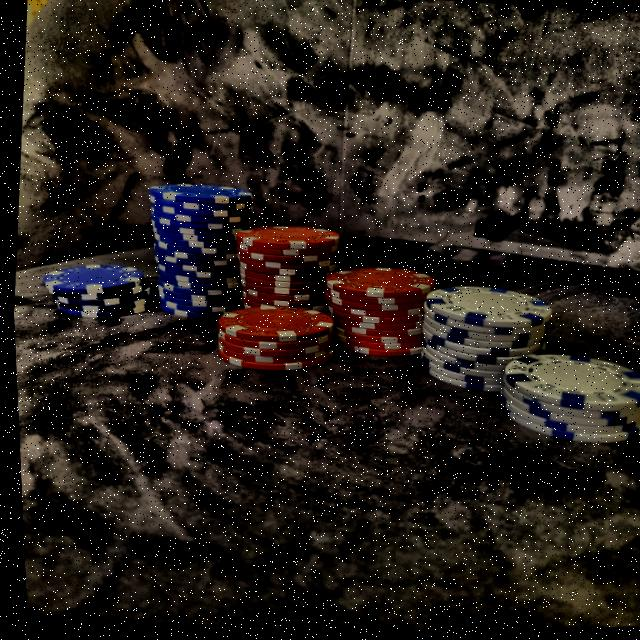Chip: (130, 175, 252, 331), (408, 280, 553, 404), (488, 346, 640, 457), (222, 218, 343, 348), (311, 258, 433, 367), (204, 301, 338, 381), (27, 251, 157, 328)
